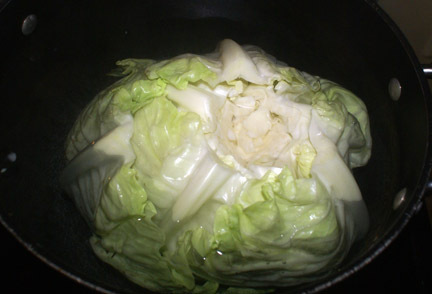cabbage: (57, 36, 376, 289)
